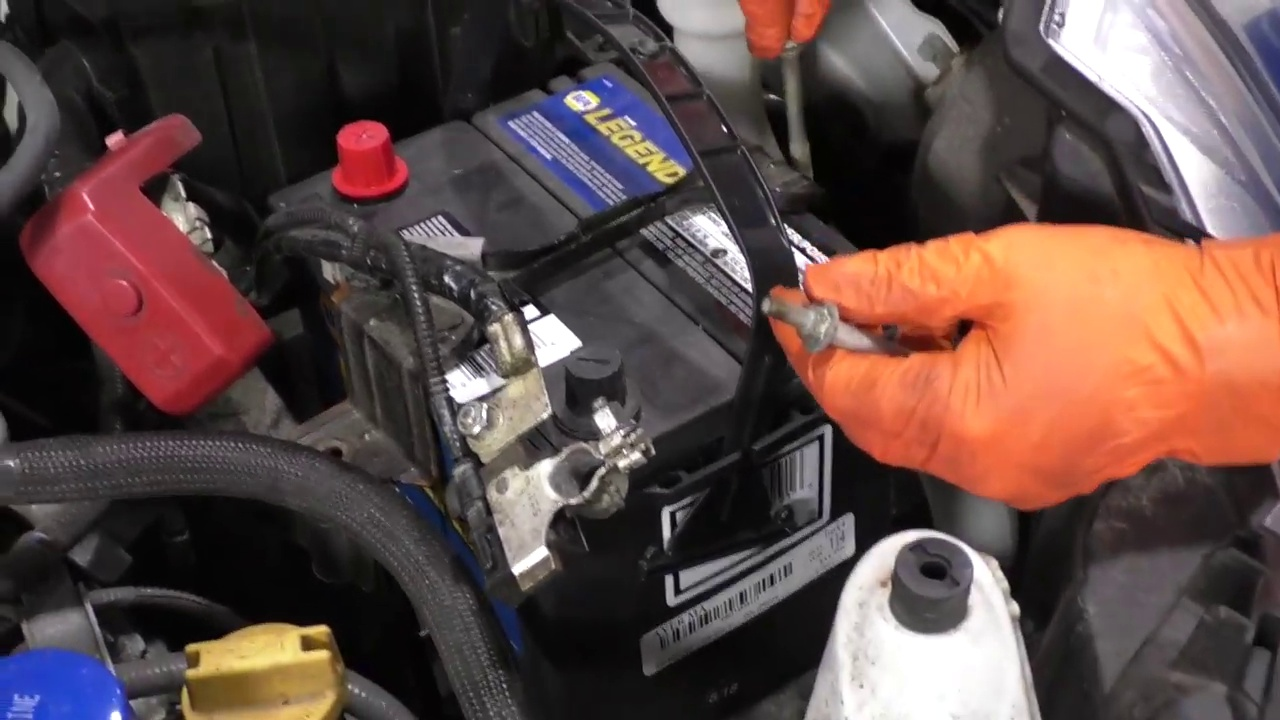battery: (271, 63, 901, 483)
pos_disconnected: (59, 89, 435, 329)
